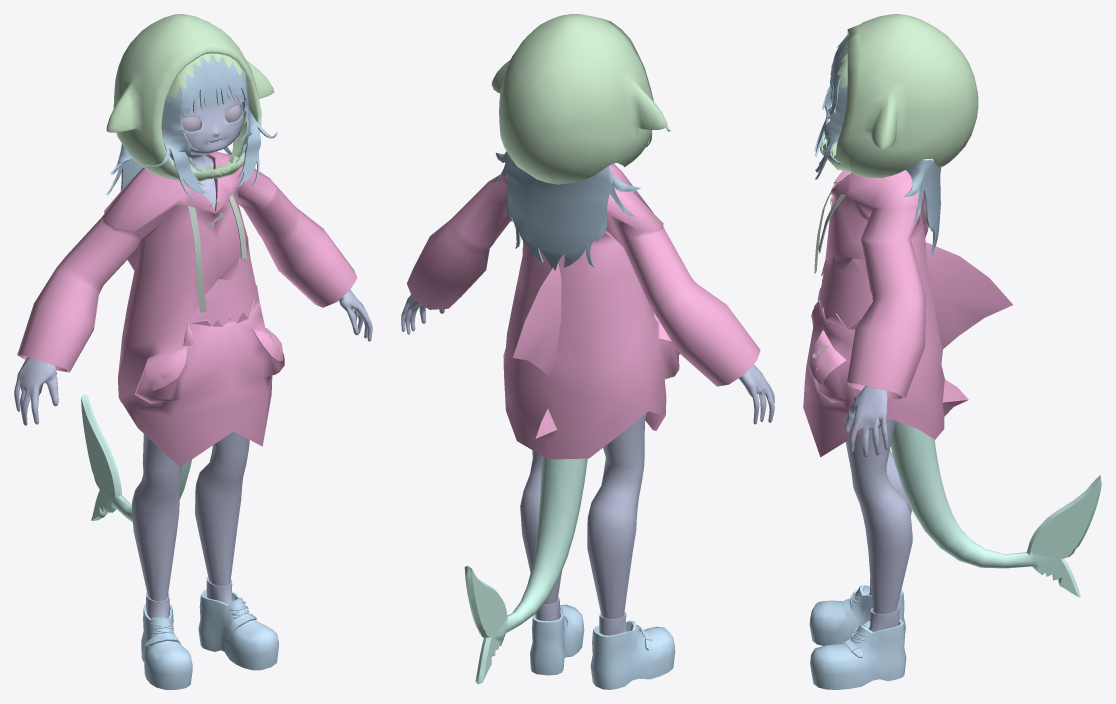
The model's file is Gura2.fbx.
The picture shows the model from 3 angles, left to right: view 1: azimuth 30°, elevation 25°; view 2: azimuth 150°, elevation 25°; view 3: azimuth 270°, elevation 25°; orthographic projection. The views are drawn at different scales.
Visible parts, largest first — view 1: gura; view 2: gura; view 3: gura.
Part boxes in pixels (box(x1,y1,x2,y2)): gura: box(14, 14, 372, 689); gura: box(401, 14, 774, 689); gura: box(803, 14, 1101, 689).
Size of the model in its own units: 4849 by 8429 by 3541.
